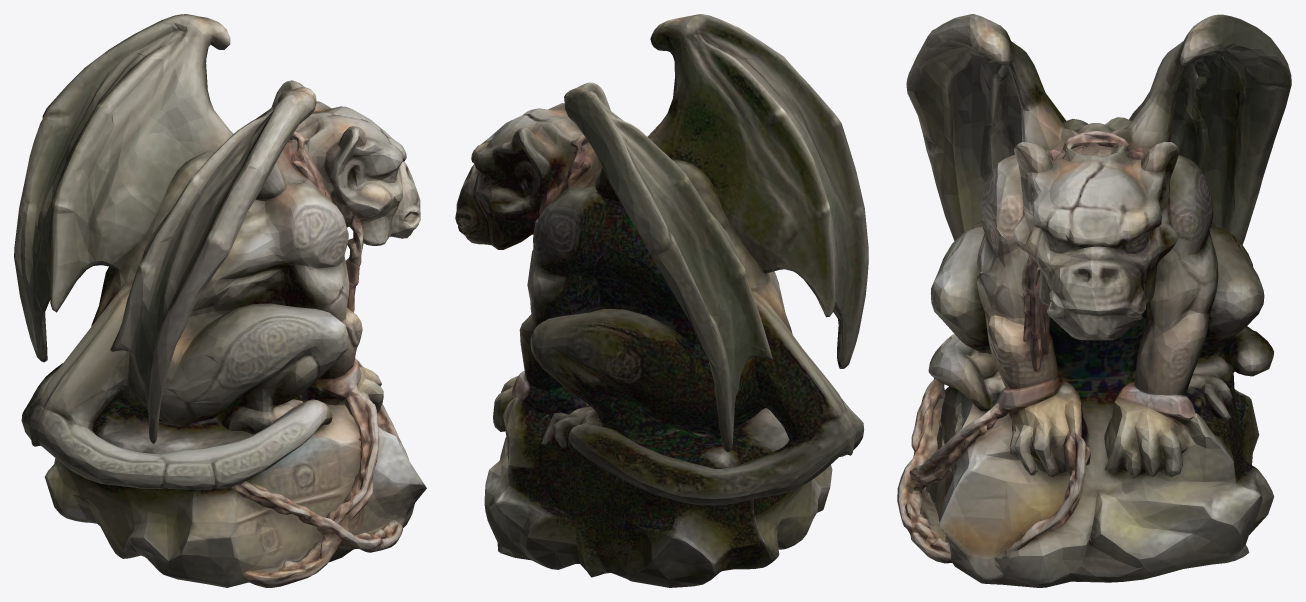
File: quarryboundGargoyle.glb
3 views of the same model, side by side, from view 1: azimuth 30°, elevation 25°; view 2: azimuth 150°, elevation 25°; view 3: azimuth 270°, elevation 25° (orthographic). The views are drawn at different scales.
Parts seen in each view (by area): view 1: world; view 2: world; view 3: world.
Part boxes in pixels (x1,y1,x2,y2): world: [14, 14, 426, 587]; world: [455, 14, 868, 587]; world: [897, 14, 1291, 587].
Size of the model in its own units: 0.8458 by 0.9863 by 0.6905.
1 material, 1 textured.
